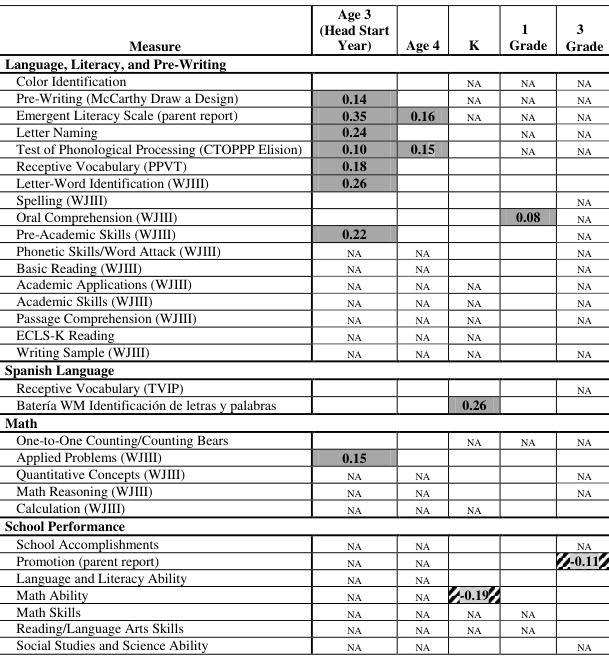table: (3, 3, 602, 653)
table column: (3, 3, 309, 653), (309, 3, 396, 653), (498, 3, 555, 653), (396, 3, 448, 653), (448, 3, 498, 653), (555, 3, 602, 653)
table column header: (3, 3, 602, 53)
table projected row header: (3, 359, 602, 378), (3, 515, 602, 534), (3, 53, 602, 71), (3, 413, 602, 430)
table row: (3, 3, 602, 53), (3, 359, 602, 378), (3, 394, 602, 413), (3, 515, 602, 534), (3, 53, 602, 71), (3, 88, 602, 106), (3, 206, 602, 224), (3, 447, 602, 465), (3, 550, 602, 568), (3, 584, 602, 602), (3, 635, 602, 653), (3, 71, 602, 88), (3, 122, 602, 139), (3, 139, 602, 156), (3, 156, 602, 173), (3, 173, 602, 190), (3, 224, 602, 241), (3, 257, 602, 274), (3, 274, 602, 291), (3, 291, 602, 308), (3, 308, 602, 325), (3, 325, 602, 342), (3, 342, 602, 359), (3, 413, 602, 430), (3, 430, 602, 447), (3, 481, 602, 498), (3, 498, 602, 515), (3, 618, 602, 635), (3, 106, 602, 122), (3, 190, 602, 206), (3, 241, 602, 257), (3, 378, 602, 394), (3, 465, 602, 481), (3, 534, 602, 550), (3, 568, 602, 584), (3, 602, 602, 618)
